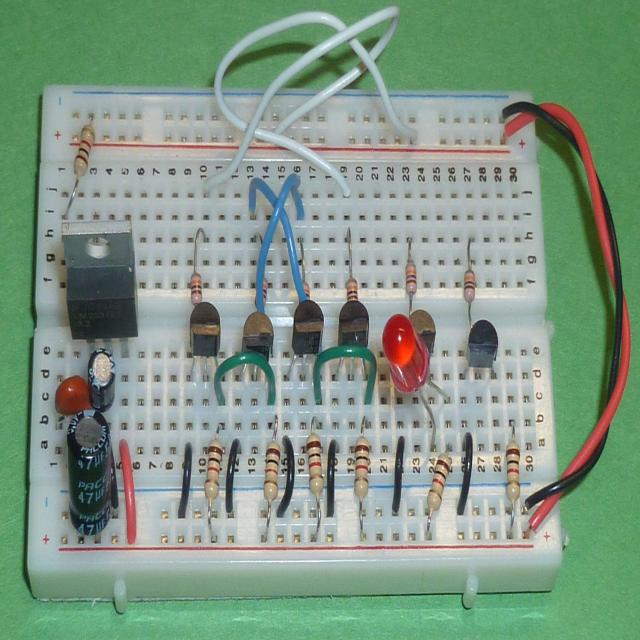Resistor Carbon-Film: (424, 454, 454, 515), (69, 120, 99, 176), (201, 438, 225, 499), (353, 435, 371, 502), (505, 439, 522, 506), (308, 433, 324, 497), (264, 440, 280, 500), (346, 276, 362, 310), (463, 267, 476, 304), (406, 258, 418, 297), (190, 269, 202, 307)
